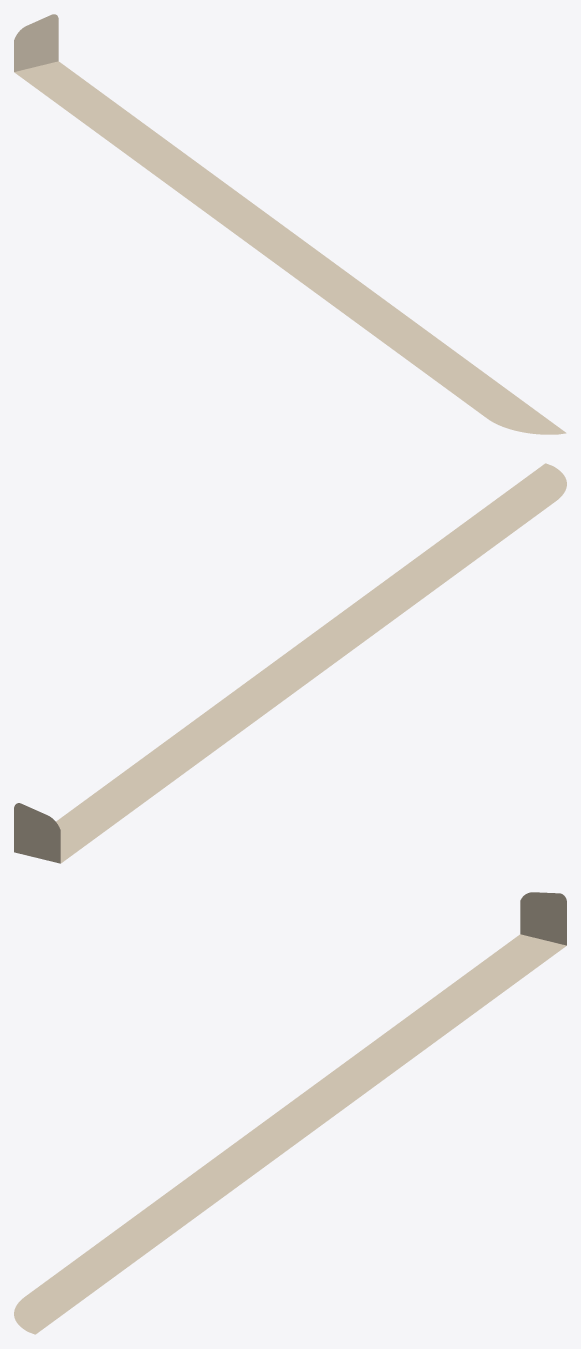
Rendered from original-56.obj.
The picture shows the model from 3 angles, top to bottom: view 1: azimuth 30°, elevation 25°; view 2: azimuth 150°, elevation 25°; view 3: azimuth 330°, elevation 25°; orthographic projection. The views are drawn at different scales.
Visible parts, largest first — view 1: #ID344; view 2: #ID344; view 3: #ID344.
Part boxes in pixels (x1,y1,x2,y2): #ID344: [14, 14, 566, 434]; #ID344: [14, 463, 566, 863]; #ID344: [14, 892, 566, 1334].
Bounding box in the file's own units: 0.0335 × 0.0347 × 0.6594.
